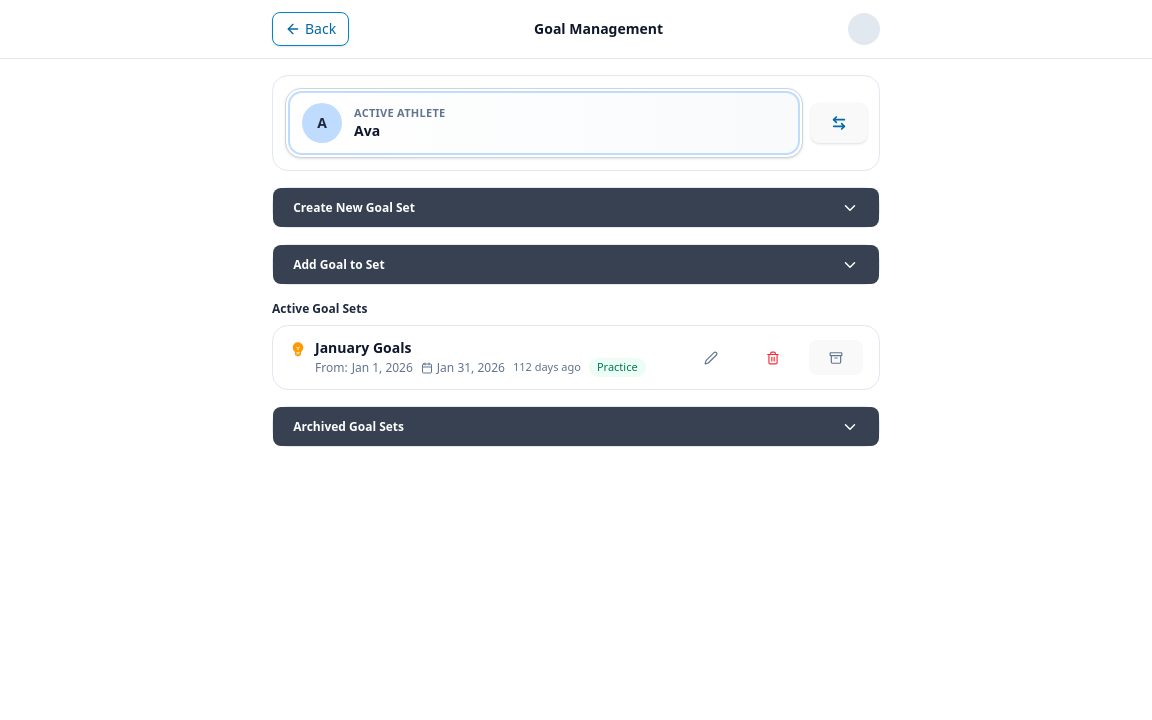
it: GoalsManager Component › should archive a goal set and show it under archived sets
Expected: the text "January Goals" is shown, [315, 338, 411, 357]
What coordinates should you click on to do the following:
click the button named "Archive goal set"
I would click on:
 (836, 358)
Its box is [809, 340, 863, 375].
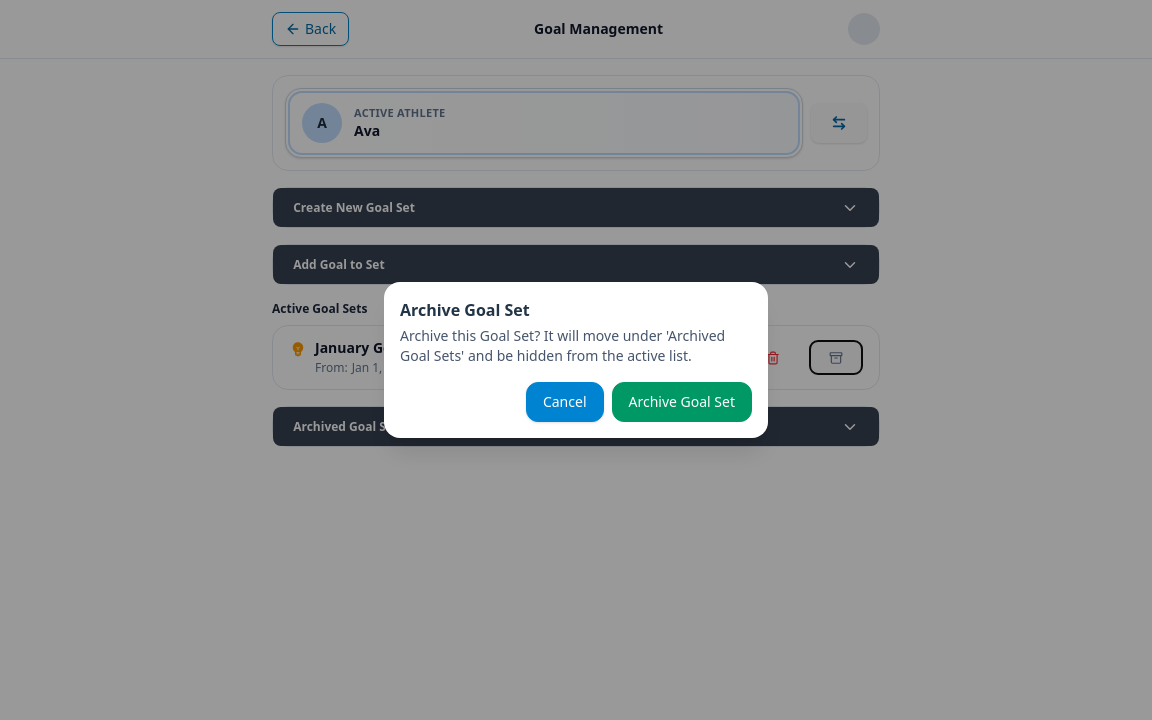
Expected: the text "Archive this Goal Set? It will move under 'Archived Goal Sets' and be hidden from the active list." is shown, [400, 326, 725, 365]
What coordinates should you click on to do the following:
click the button "Archive Goal Set"
I would click on:
 (682, 402)
Its box is [612, 382, 752, 422].
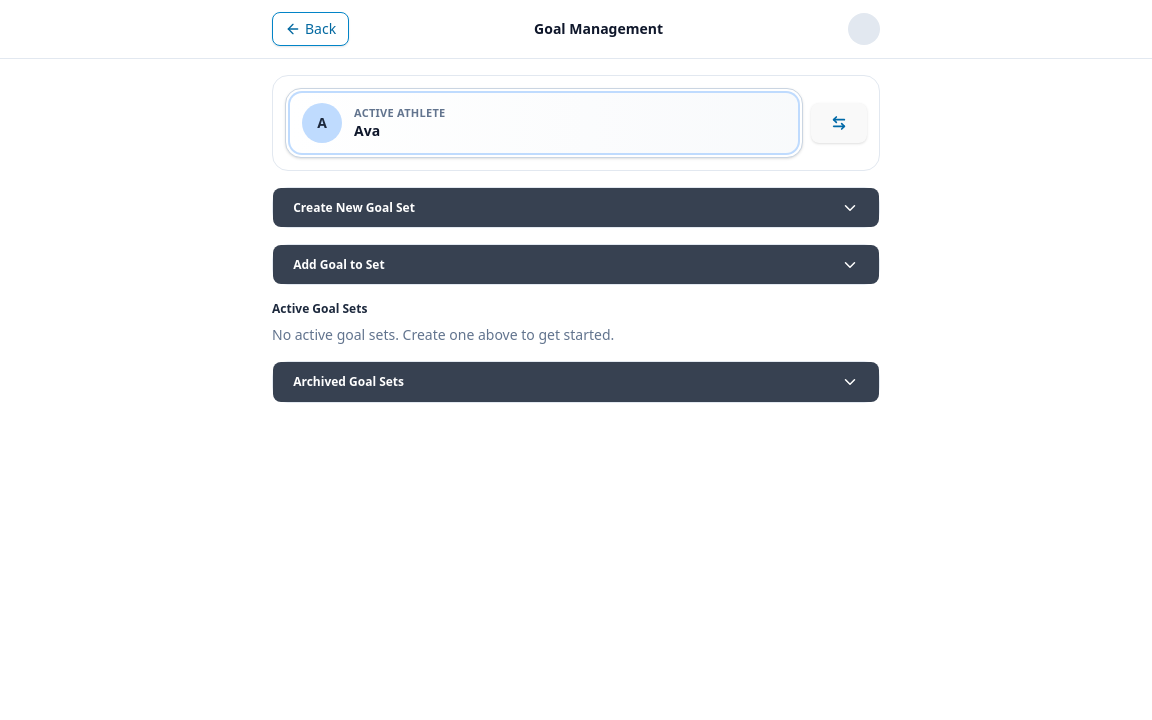
Expected: the text "No active goal sets. Create one above to get started." is shown, [272, 325, 614, 344]
What coordinates should you click on to do the following:
click the button "Archived Goal Sets"
I would click on:
 (349, 381)
Its box is [273, 362, 879, 402].
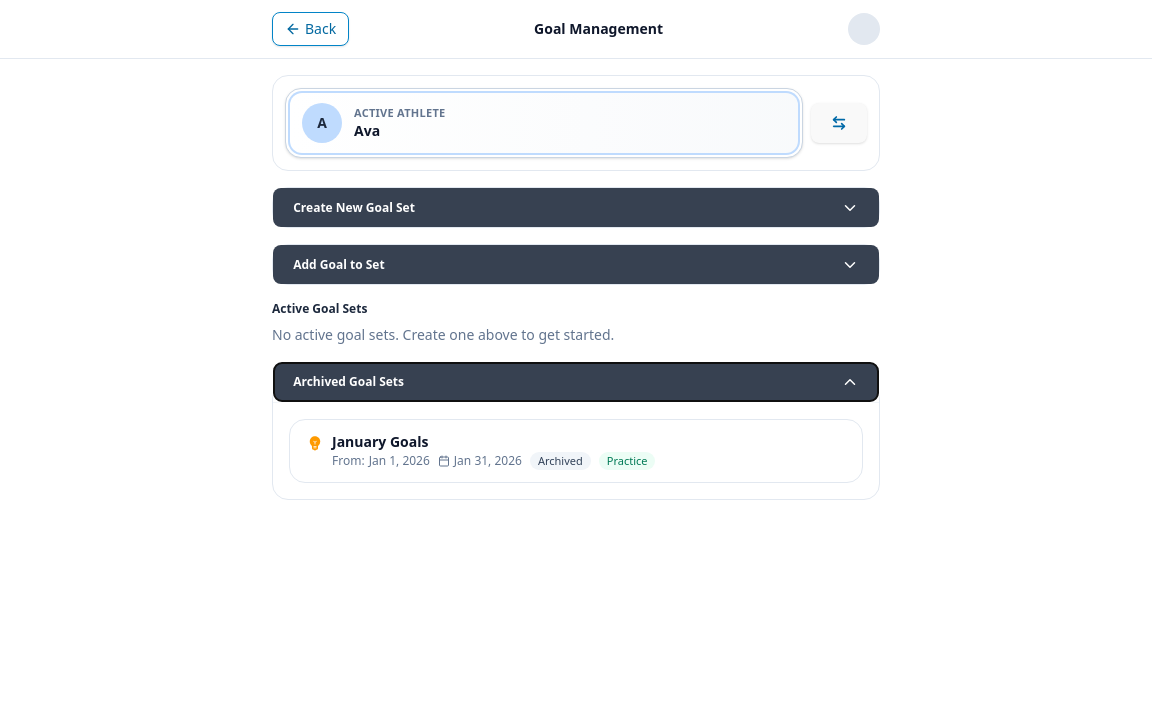
Expected: the text "January Goals" is shown, [332, 432, 428, 451]
